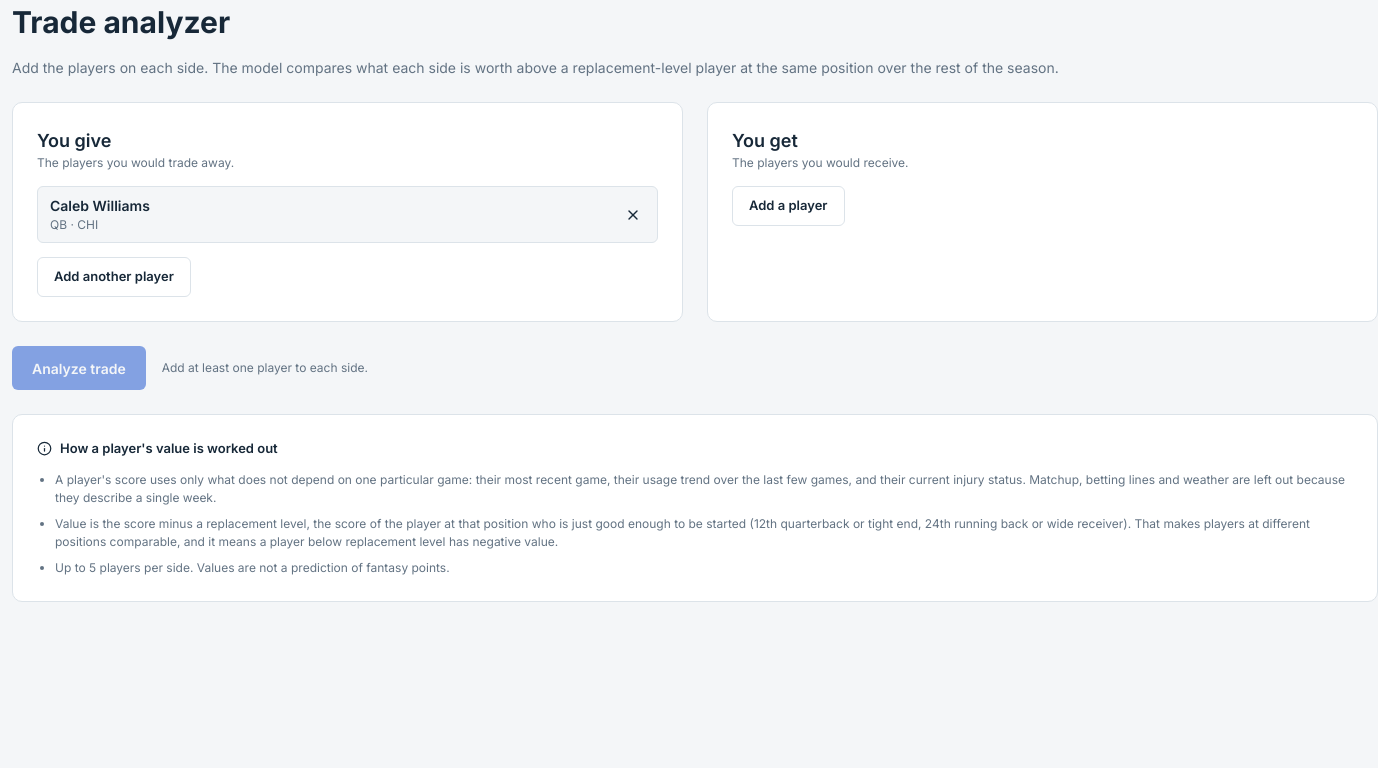
Scenario: TradePage › adds a player from a search, to either side, without offering anyone already chosen
The image size is (1378, 768).
Click the button "Add a player": (788, 206) [732,186,844,226]
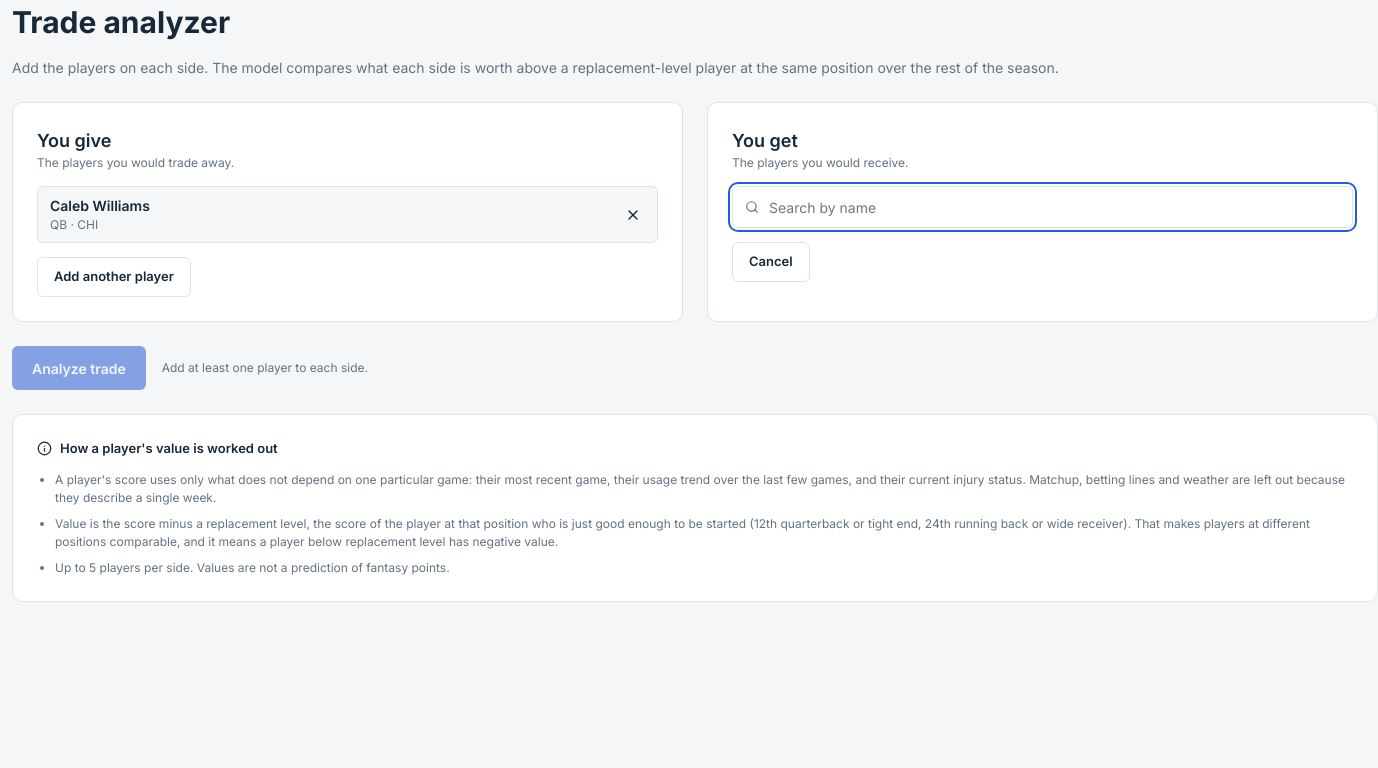
In the search field: (1054, 207) [767,196,1340,218], type "ky"
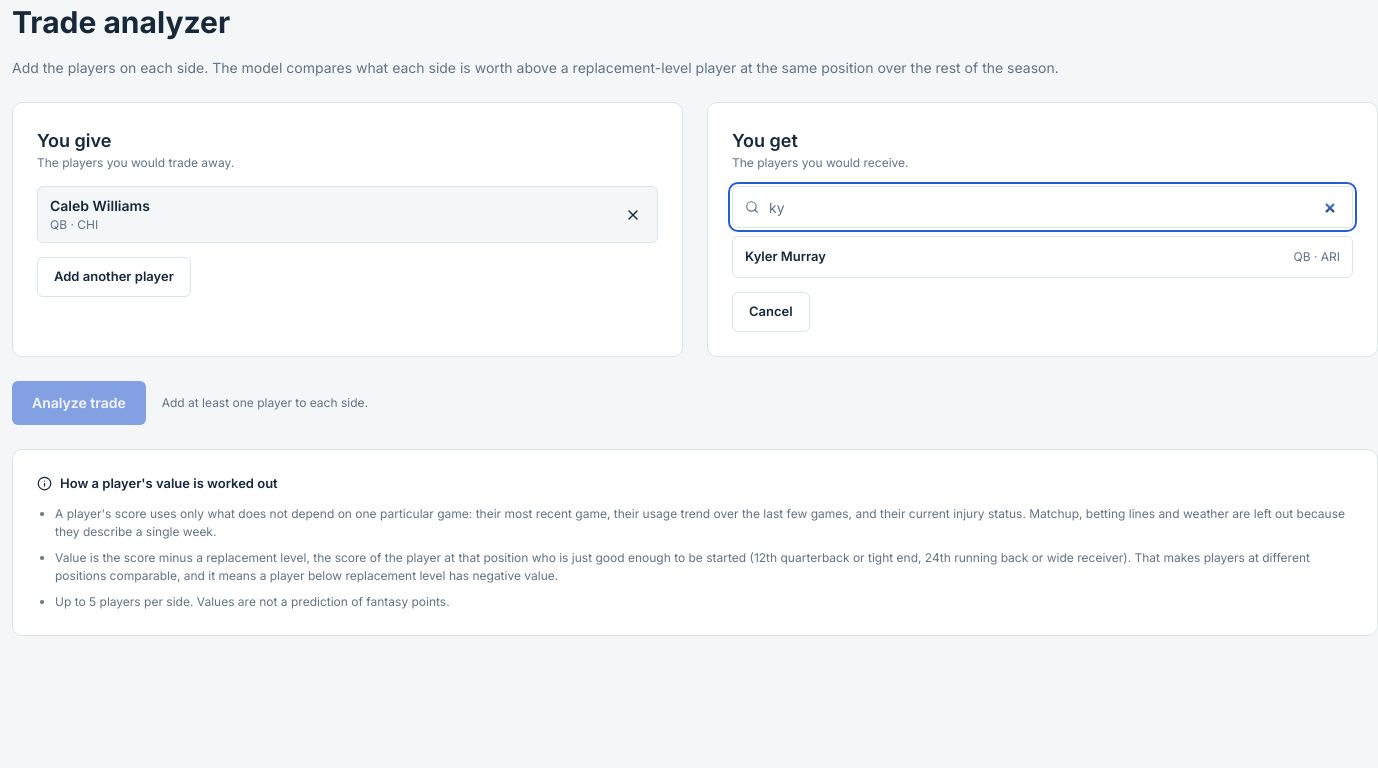
Click the text "Kyler Murray": (786, 257) [745,247,826,266]
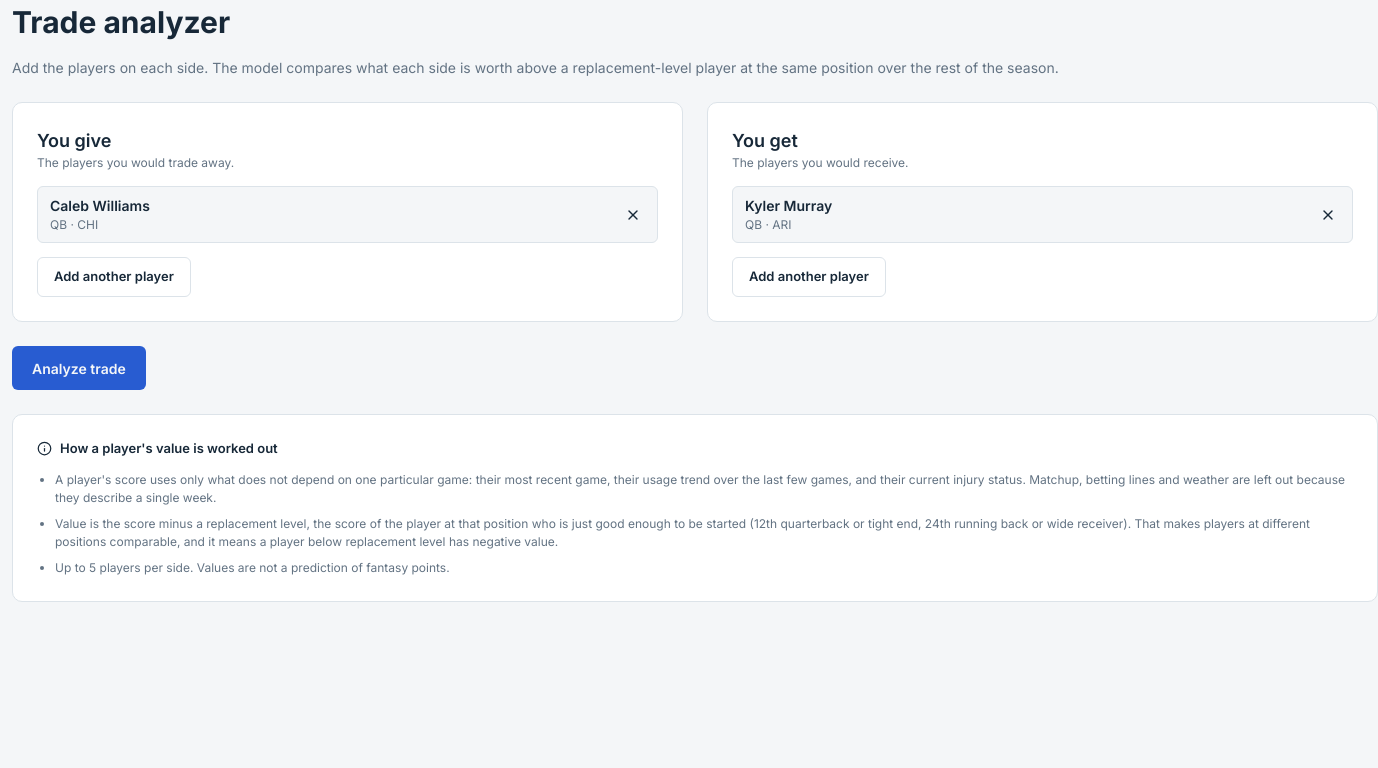
Expected: the text "Kyler Murray" is shown, [745,195,832,216]
Expected: the button "Analyze trade" is enabled, [12,346,146,390]
